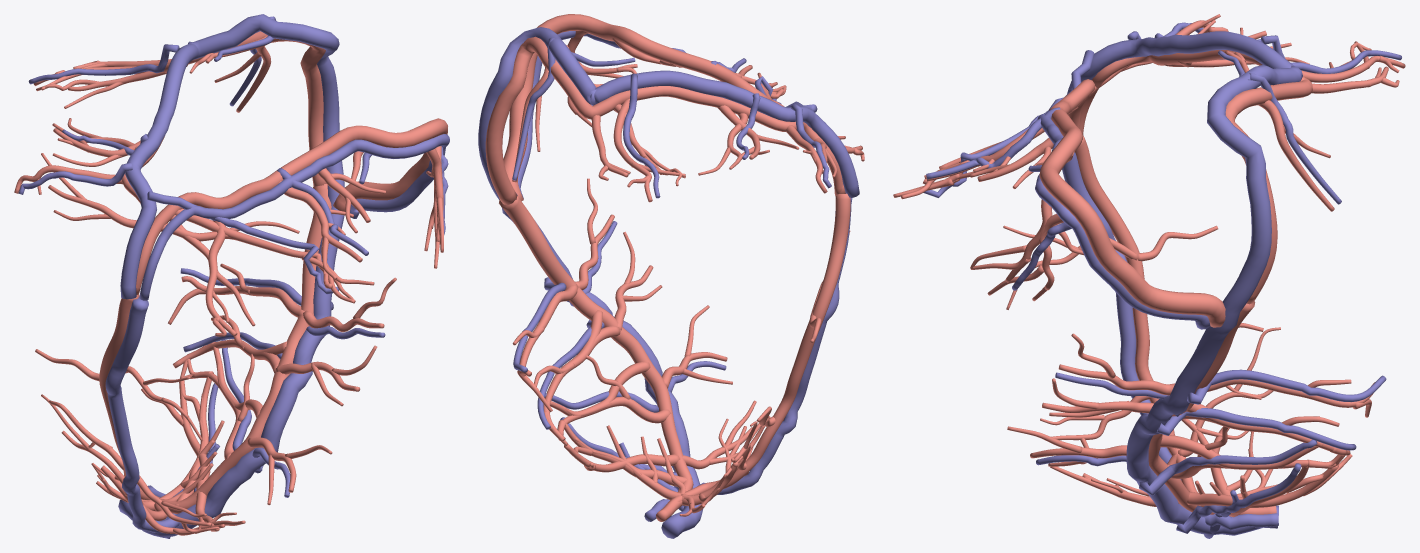
File: vessels_29.glb
3 views of the same model, side by side, from view 1: azimuth 30°, elevation 25°; view 2: azimuth 150°, elevation 25°; view 3: azimuth 270°, elevation 25° (orthographic). The views are drawn at different scales.
Parts seen in each view (by area): view 1: Renderer Node; view 2: Renderer Node; view 3: Renderer Node.
Boxes of the visible parts, x1,y1,x2,y2 form: Renderer Node: (14, 14, 449, 538); Renderer Node: (478, 14, 864, 538); Renderer Node: (893, 14, 1405, 538).
Size of the model in its own units: 89.41 by 110 by 95.52.
